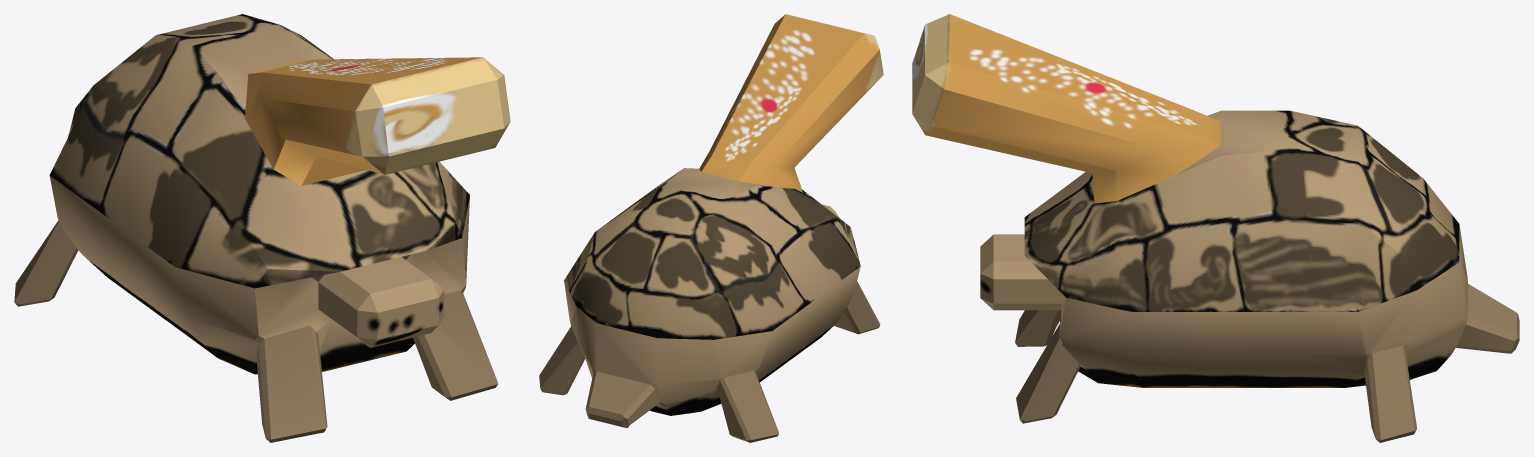
Rendered from Enemy9.fbx.
The picture shows the model from 3 angles, left to right: view 1: azimuth 30°, elevation 25°; view 2: azimuth 150°, elevation 25°; view 3: azimuth 270°, elevation 25°; orthographic projection. The views are drawn at different scales.
Visible parts, largest first — view 1: pCube1; view 2: pCube1; view 3: pCube1.
Part boxes in pixels (<box>): pCube1: <box>14,14,510,442</box>; pCube1: <box>539,14,883,442</box>; pCube1: <box>912,14,1519,442</box>.
Size of the model in its own units: 6.55 by 6.88 by 11.23.
1 material, 1 textured.
